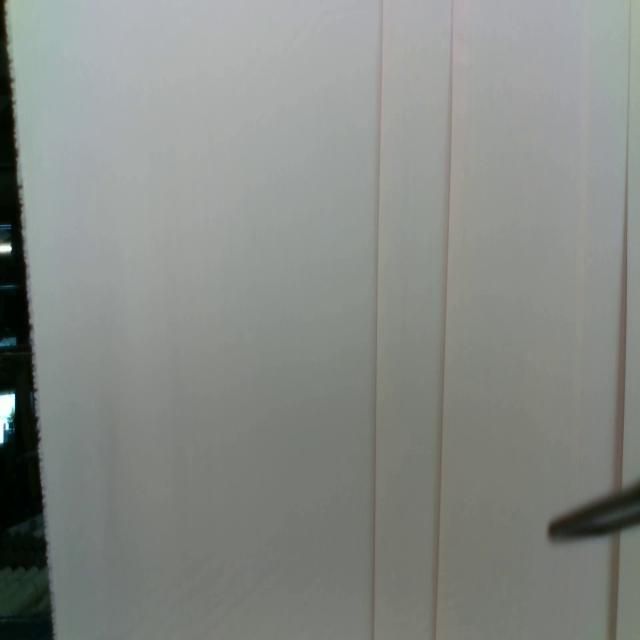crease: (433, 0, 455, 638), (614, 0, 634, 484), (369, 2, 384, 640), (610, 530, 624, 640)
